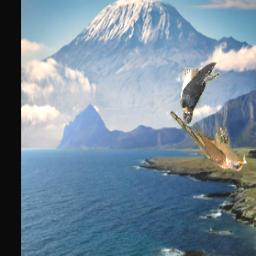Cuckoo: (171, 111, 249, 171)
Swallow: (180, 64, 220, 125)
